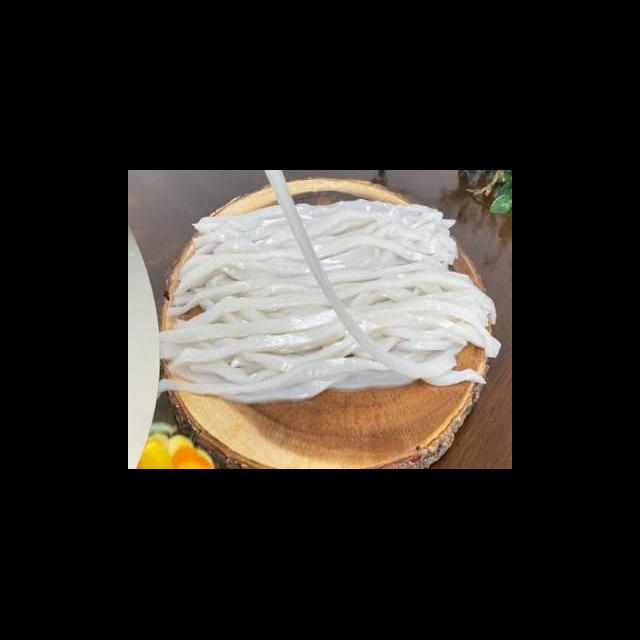banh pho: (148, 195, 512, 408)
